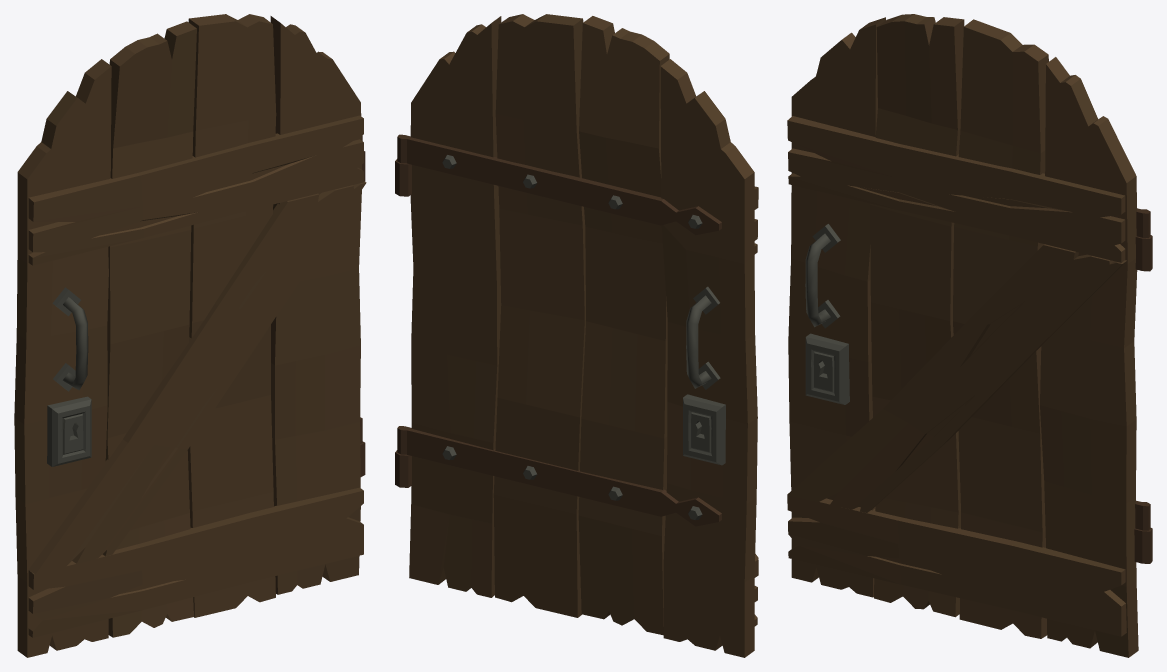
The model's file is wood_door_R.gltf.
3 views of the same model, side by side, from view 1: azimuth 30°, elevation 25°; view 2: azimuth 150°, elevation 25°; view 3: azimuth 330°, elevation 25° (orthographic).
Visible parts, largest first — view 1: Door_Wooden_Right; view 2: Door_Wooden_Right; view 3: Door_Wooden_Right.
Boxes of the visible parts, left/top/right/bottom form: Door_Wooden_Right: left=14, top=14, right=366, bottom=657; Door_Wooden_Right: left=395, top=14, right=758, bottom=657; Door_Wooden_Right: left=787, top=14, right=1152, bottom=657.
Size of the model in its own units: 1.34 by 2.17 by 0.3294.
Materials: 2 (2 with a texture image).
